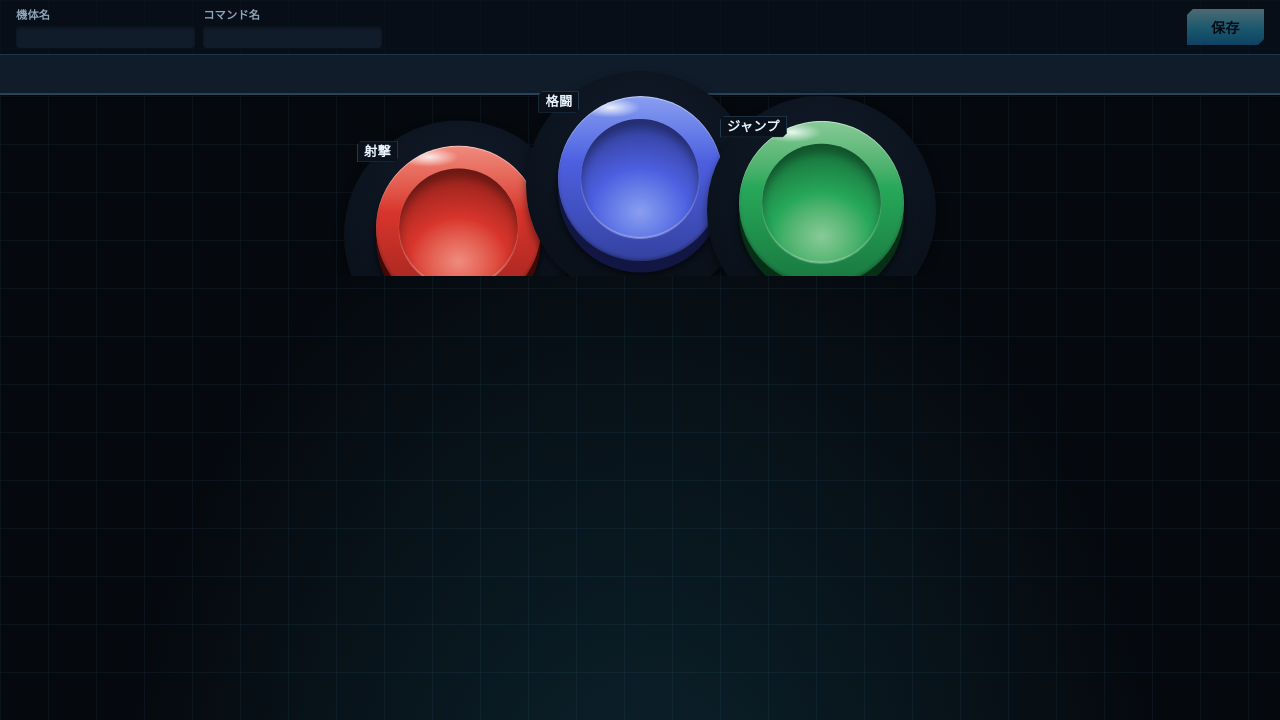
Test: CommandForm › シーケンス構築 › 複数のボタンをタップするとステップが順番に追加される
Press the mouse on the button "ジャンプ" at point(822, 204), box [739, 121, 904, 286]
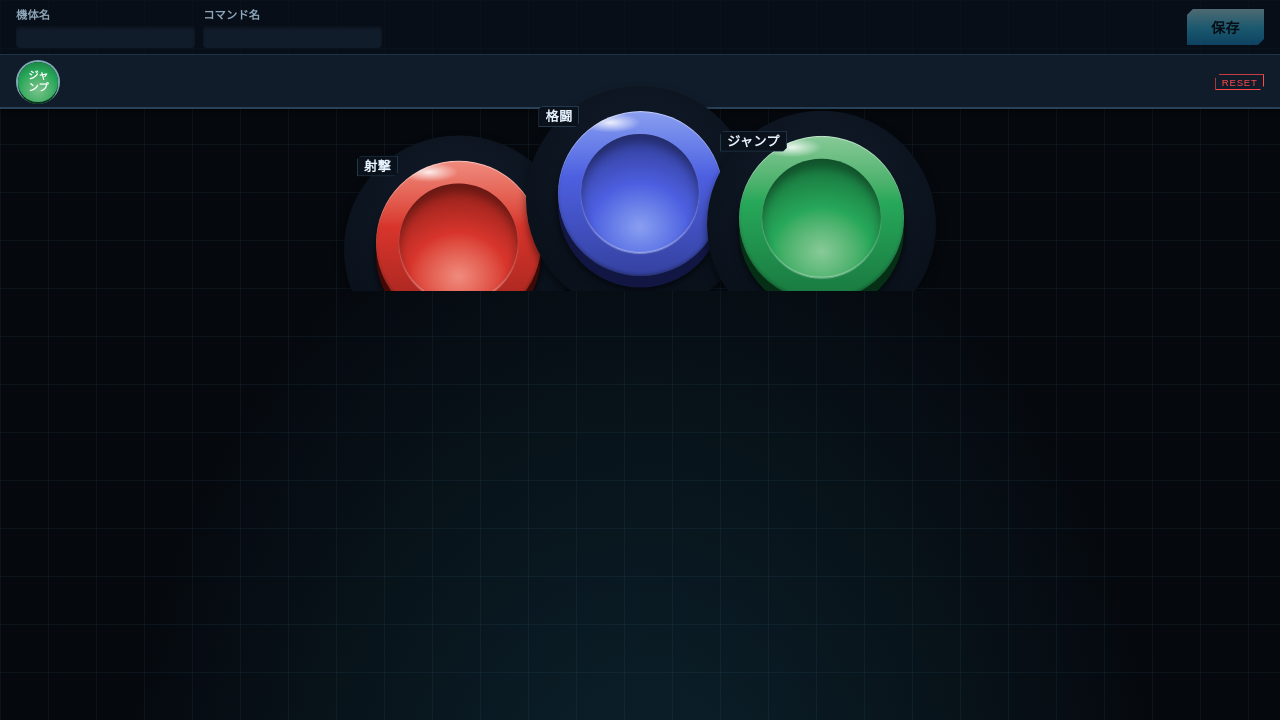
Press the mouse on the button "射撃" at point(458, 243), box [376, 160, 541, 325]
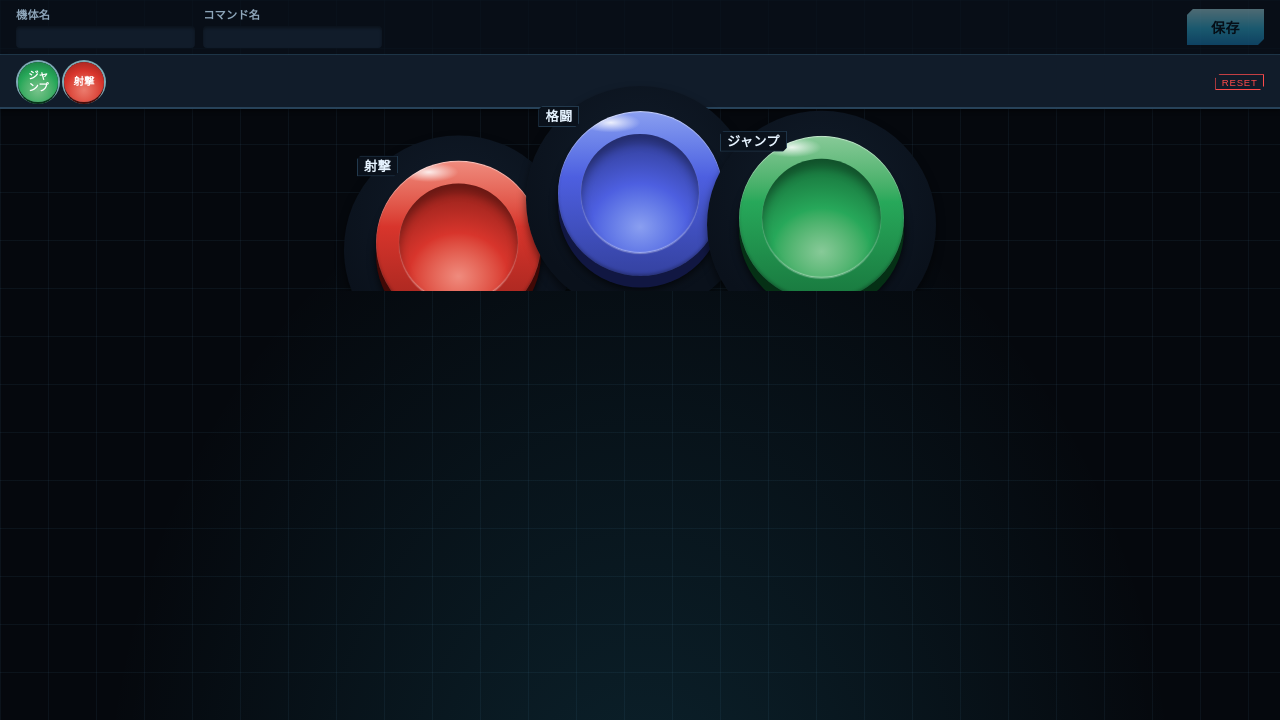
Expected: the number of elements with test id "sequence-step" is 2, [18, 62, 58, 102]; [64, 62, 104, 102]
